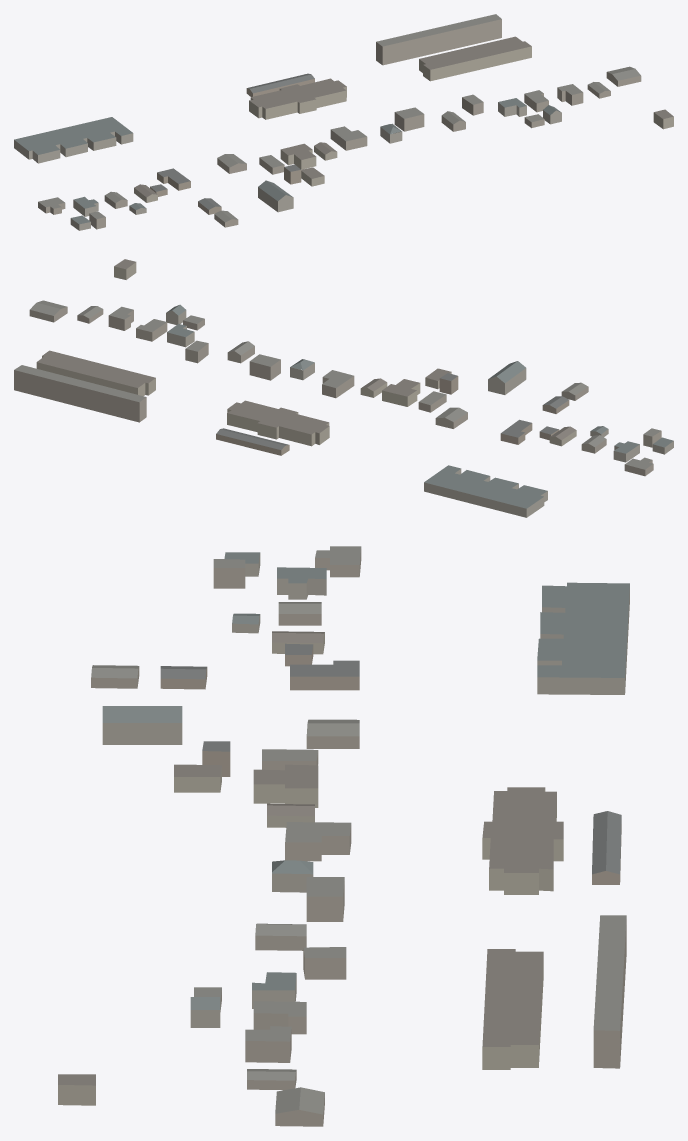
Rendered from dd8bbae066cc-chunk-1206_11844.glb.
The picture shows the model from 3 angles, top to bottom: view 1: azimuth 30°, elevation 25°; view 2: azimuth 150°, elevation 25°; view 3: azimuth 270°, elevation 25°; orthographic projection. The views are drawn at different scales.
Visible parts, largest first — view 1: building_134568, building_137732, building_87922, building_151907, building_146522, building_70772, building_68587, building_91802, building_161255, building_13799, building_2709, building_4487 (+10 smaller); view 2: building_134568, building_137732, building_151907, building_87922, building_68587, building_146522, building_70772, building_91802, building_161255, building_13799, building_2709, building_109294 (+9 smaller); view 3: building_137732, building_151907, building_87922, building_134568, building_146522, building_70772, building_91802, building_68587, building_2709, building_13799, building_161255, building_4487 (+19 smaller).
Part boxes in pixels (bbox=[...]): building_134568: bbox=[376, 14, 501, 65]; building_137732: bbox=[14, 117, 133, 163]; building_87922: bbox=[419, 36, 531, 81]; building_151907: bbox=[249, 78, 346, 119]; building_146522: bbox=[258, 180, 293, 212]; building_70772: bbox=[280, 143, 316, 169]; building_68587: bbox=[246, 73, 314, 96]; building_91802: bbox=[330, 126, 367, 150]; building_161255: bbox=[394, 107, 424, 131]; building_13799: bbox=[606, 66, 641, 86]; building_2709: bbox=[157, 168, 190, 190]; building_4487: bbox=[557, 84, 583, 105]; building_134568: bbox=[14, 365, 146, 422]; building_137732: bbox=[424, 465, 547, 517]; building_151907: bbox=[227, 400, 329, 446]; building_87922: bbox=[36, 350, 155, 396]; building_68587: bbox=[216, 428, 289, 455]; building_146522: bbox=[488, 361, 526, 394]; building_70772: bbox=[382, 379, 420, 406]; building_91802: bbox=[322, 370, 354, 398]; building_161255: bbox=[249, 354, 280, 380]; building_13799: bbox=[29, 300, 67, 322]; building_2709: bbox=[500, 419, 532, 444]; building_109294: bbox=[136, 319, 167, 341]; building_137732: bbox=[537, 582, 629, 694]; building_151907: bbox=[482, 787, 563, 894]; building_87922: bbox=[482, 949, 543, 1069]; building_134568: bbox=[593, 915, 626, 1068]; building_146522: bbox=[102, 706, 182, 744]; building_70772: bbox=[253, 764, 318, 807]; building_91802: bbox=[285, 822, 351, 861]; building_68587: bbox=[592, 811, 621, 884]; building_2709: bbox=[290, 660, 359, 690]; building_13799: bbox=[275, 1087, 324, 1126]; building_161255: bbox=[306, 877, 344, 921]; building_4487: bbox=[245, 1026, 291, 1062].
Size of the model in its own units: 365 by 11.3 by 155.
